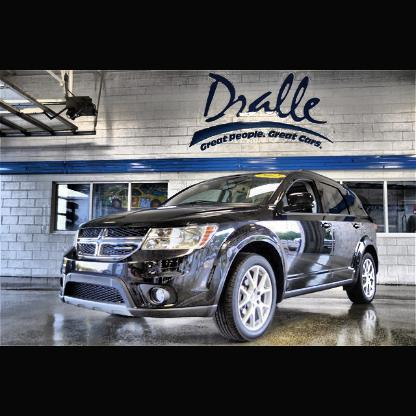Dodge Journey SUV 2012: (61, 173, 381, 340)
